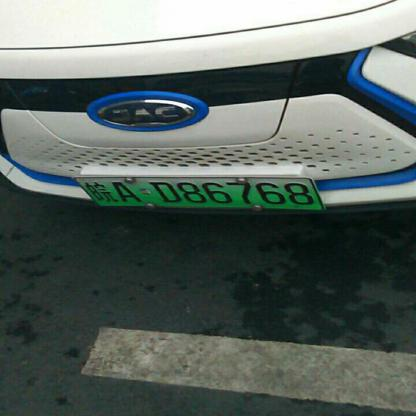lp: (74, 178, 324, 211)
